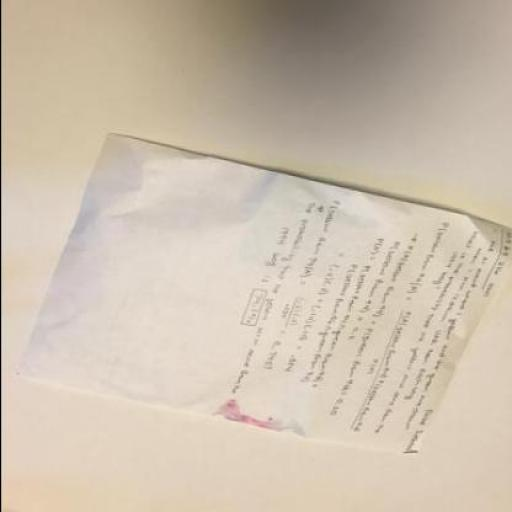paper: (15, 136, 511, 457)
